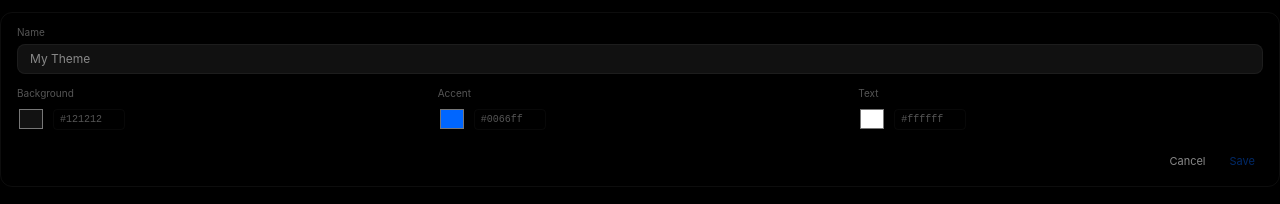
Test: CustomThemeEditor › disables save when name matches an existing theme
Step 1. Type "Night" into the field with test id "theme-name-input" → (640, 59), box [17,44,1263,74]
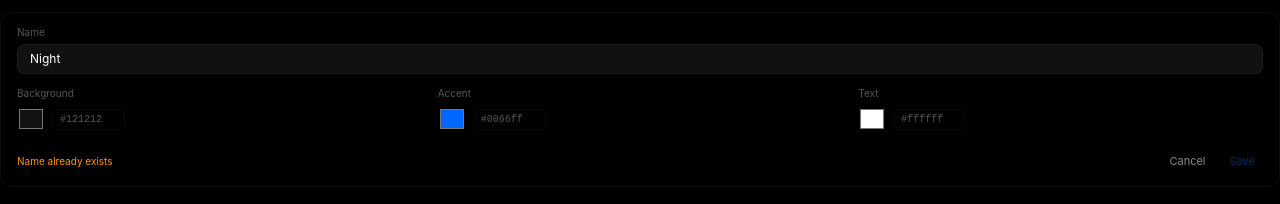
Expected: the button with test id "theme-save-btn" is disabled, [1222,149,1263,174]
Now the text "Name already exists" is shown, box [17,154,113,169]
